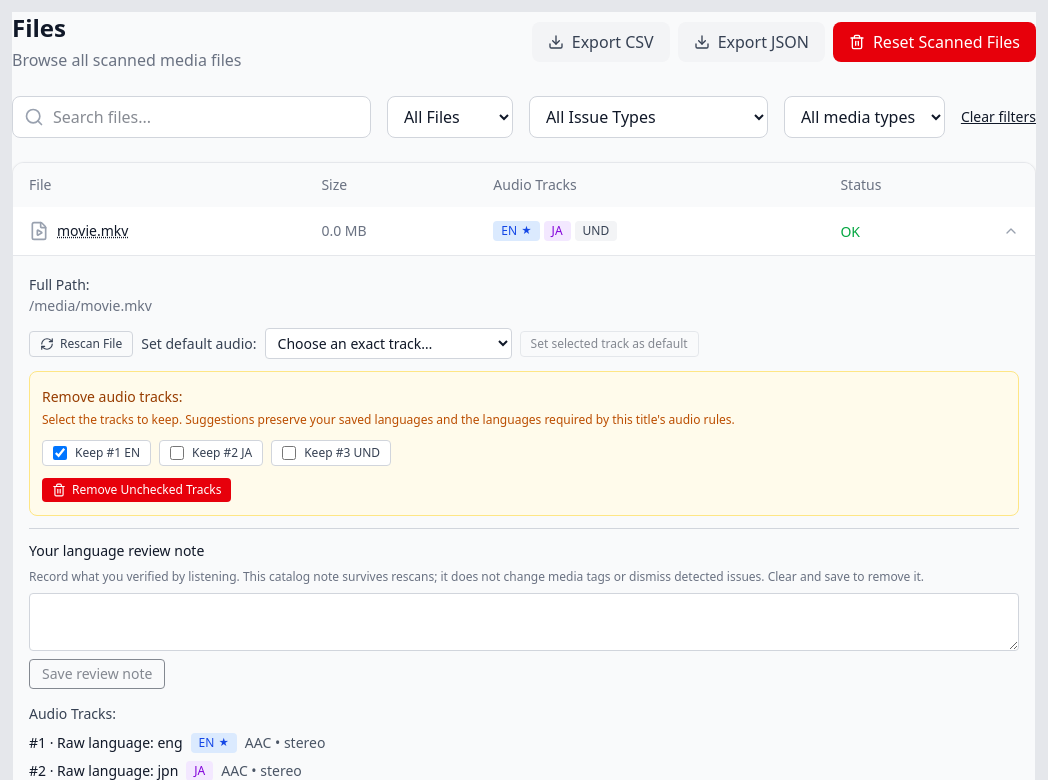
Test case: saves a user language note separately from track metadata
Type "Verified by listening: English" into the text box labelled "Your language review note" at {"x": 524, "y": 622}, box [29,593,1019,651]
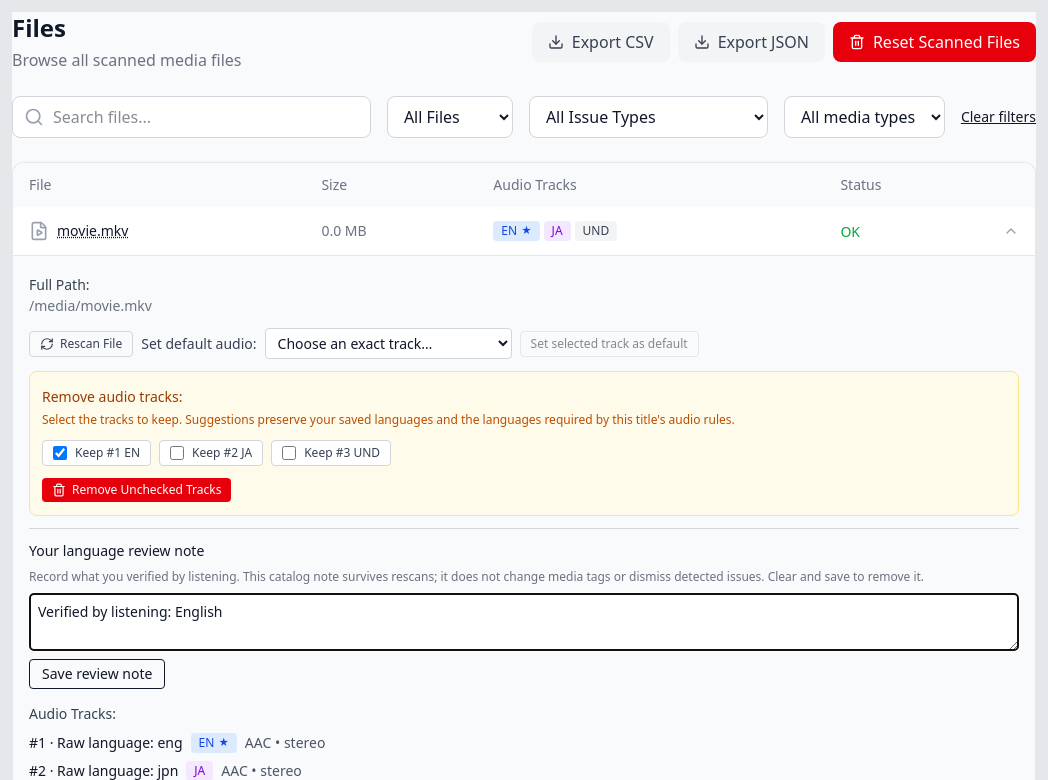
Click the button "Save review note" at {"x": 97, "y": 674}, box [29,659,165,689]
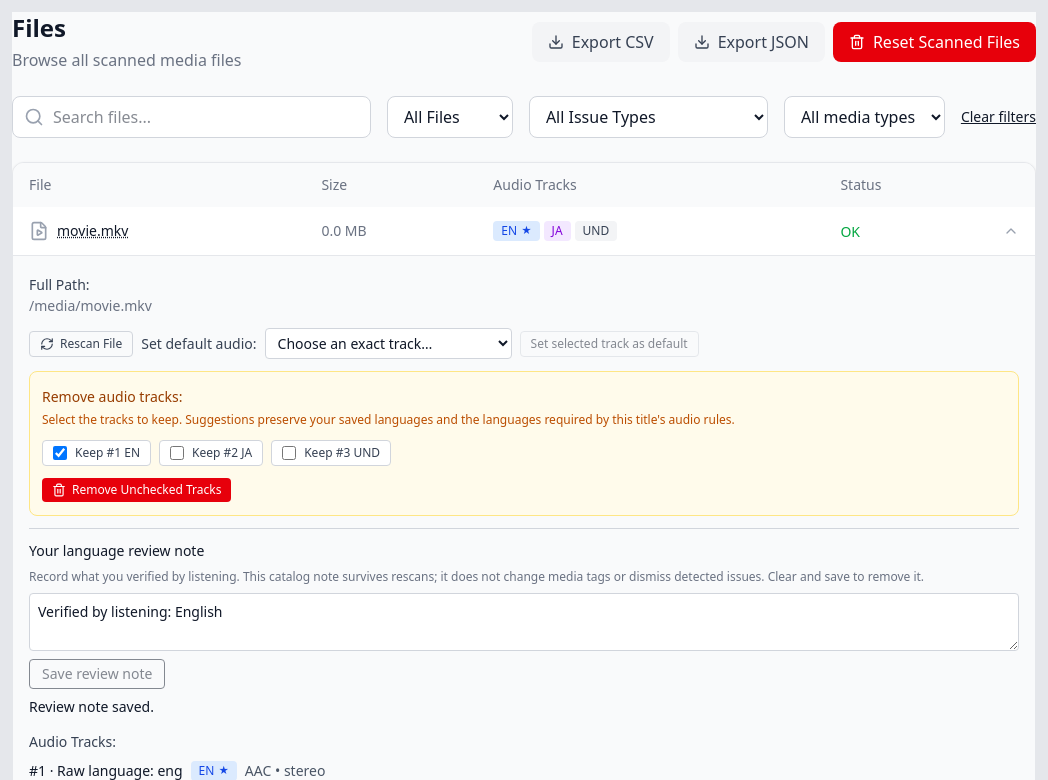
expect the text "Review note saved." is shown: met, box [29,697,154,716]
